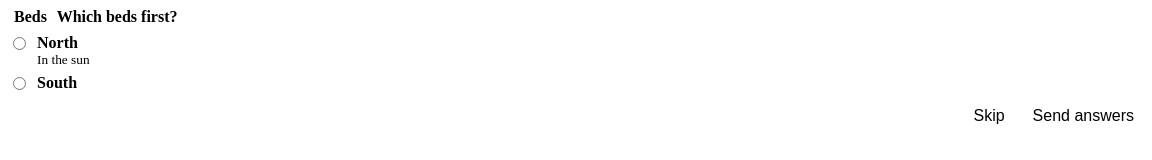
Answer, inline (the Inbox) › answers a question with the dialog’s own controls, its keys on its buttons
Expected: the button "Send answers" is disabled, [1023, 102, 1144, 130]
Click the radio button labelled "North In the sun".
click(20, 44)  # box [13, 37, 26, 50]
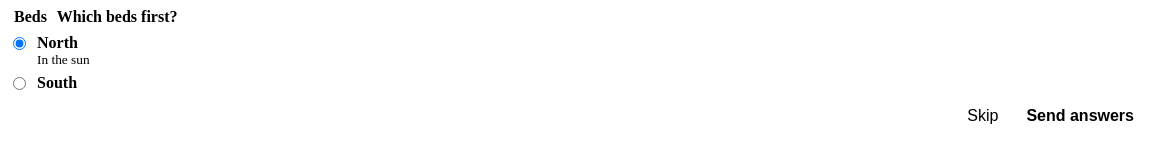
Click the button "Send answers".
click(1080, 116)  # box [1016, 102, 1144, 130]
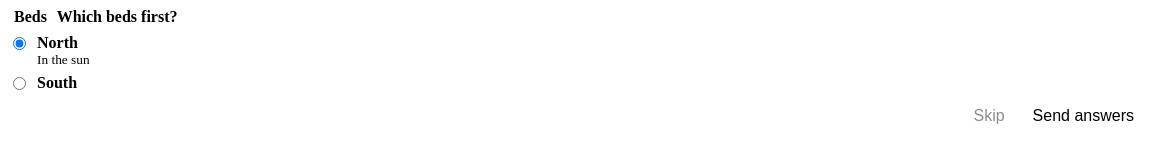
Now the button "Skip" is disabled, box [964, 102, 1015, 130]
